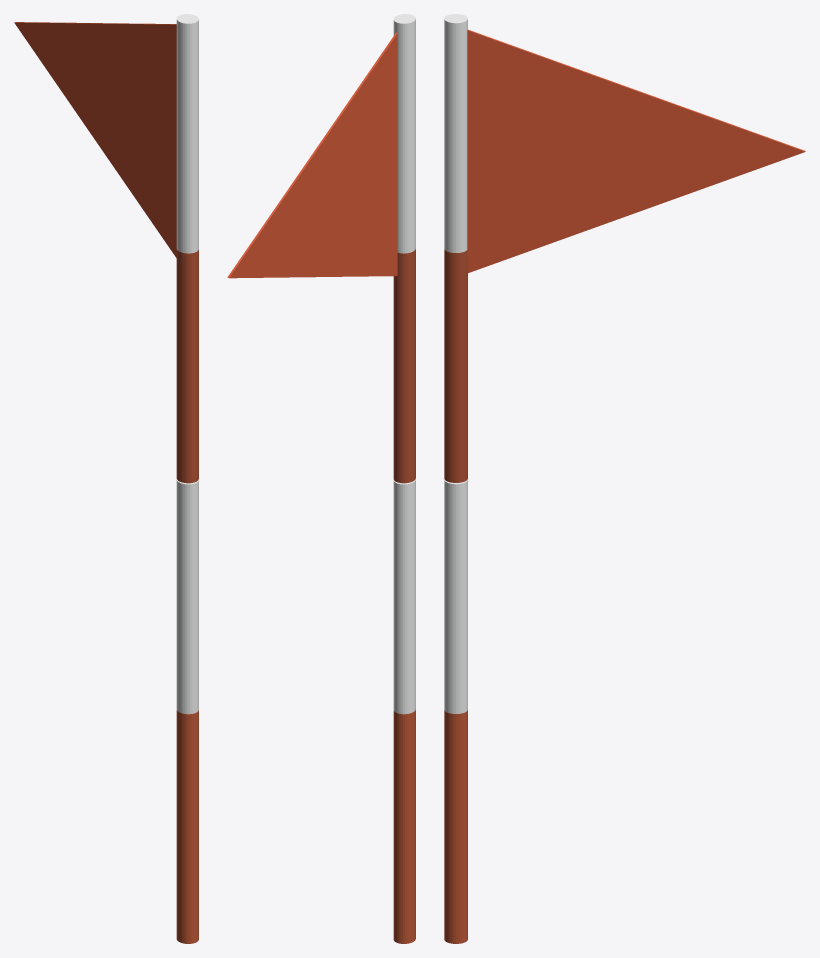
File: flagfinal.fbx
The picture shows the model from 3 angles, left to right: view 1: azimuth 30°, elevation 25°; view 2: azimuth 150°, elevation 25°; view 3: azimuth 270°, elevation 25°; orthographic projection.
Visible parts, largest first — view 1: Cylinder.003, flag; view 2: flag, Cylinder.003; view 3: flag, Cylinder.003.
Boxes of the visible parts, left/top/right/bottom form: Cylinder.003: left=176, top=14, right=198, bottom=943; flag: left=14, top=22, right=176, bottom=257; flag: left=227, top=32, right=397, bottom=278; Cylinder.003: left=393, top=14, right=415, bottom=943; flag: left=467, top=29, right=805, bottom=273; Cylinder.003: left=444, top=14, right=467, bottom=943.
Size of the model in its own units: 5.02 by 233 by 83.
